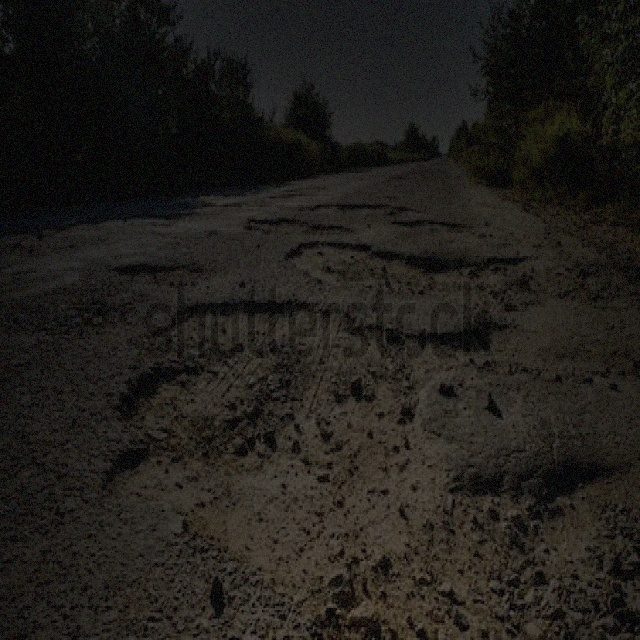pothole: (96, 294, 443, 638), (284, 235, 540, 305), (303, 198, 415, 241), (242, 211, 351, 237), (112, 256, 205, 286)
